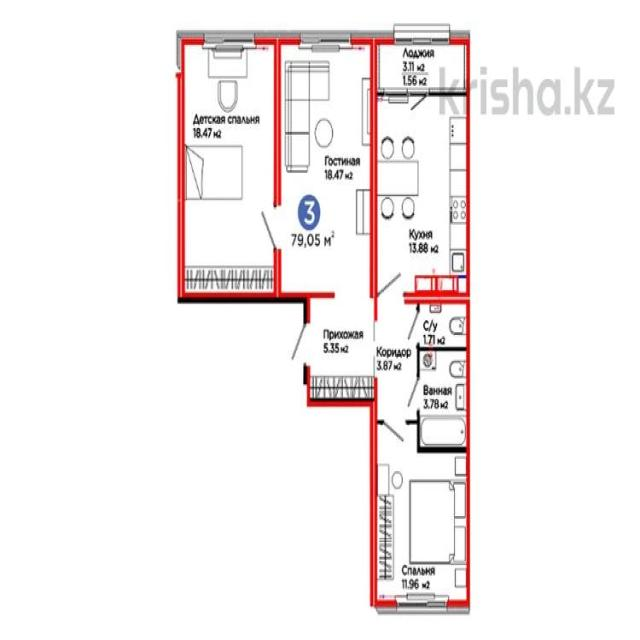balcony: (378, 47, 468, 89)
bathroom: (418, 352, 466, 446), (419, 305, 466, 347)
hallway: (308, 300, 373, 383), (378, 301, 415, 420)
kitchen: (378, 98, 468, 293)
living_room: (281, 47, 370, 292), (184, 43, 276, 267), (380, 452, 466, 601)
